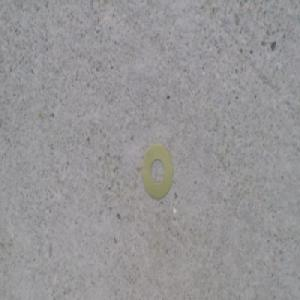Washer: (143, 145, 173, 196)
